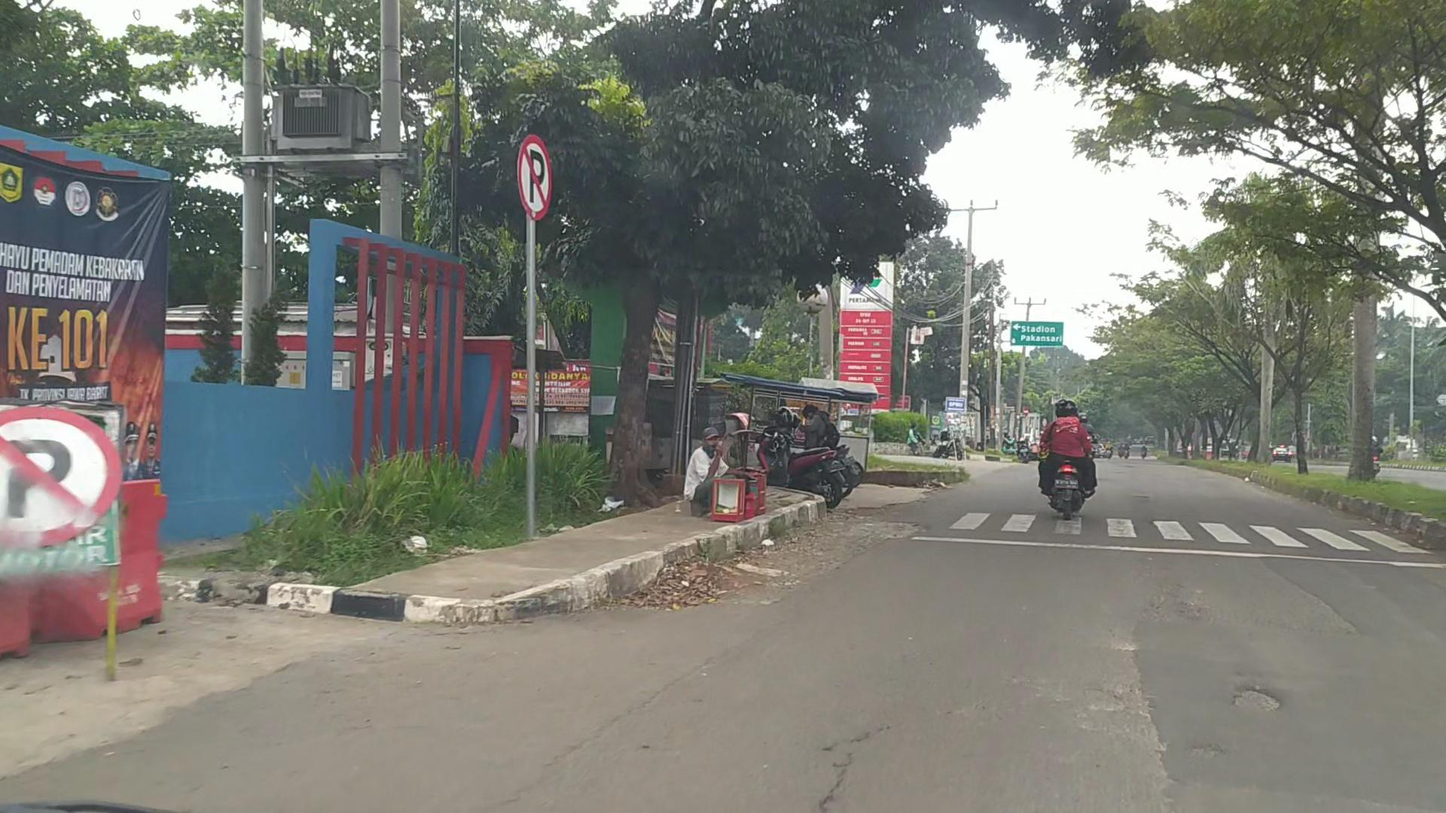pothole: (1229, 684, 1281, 714)
